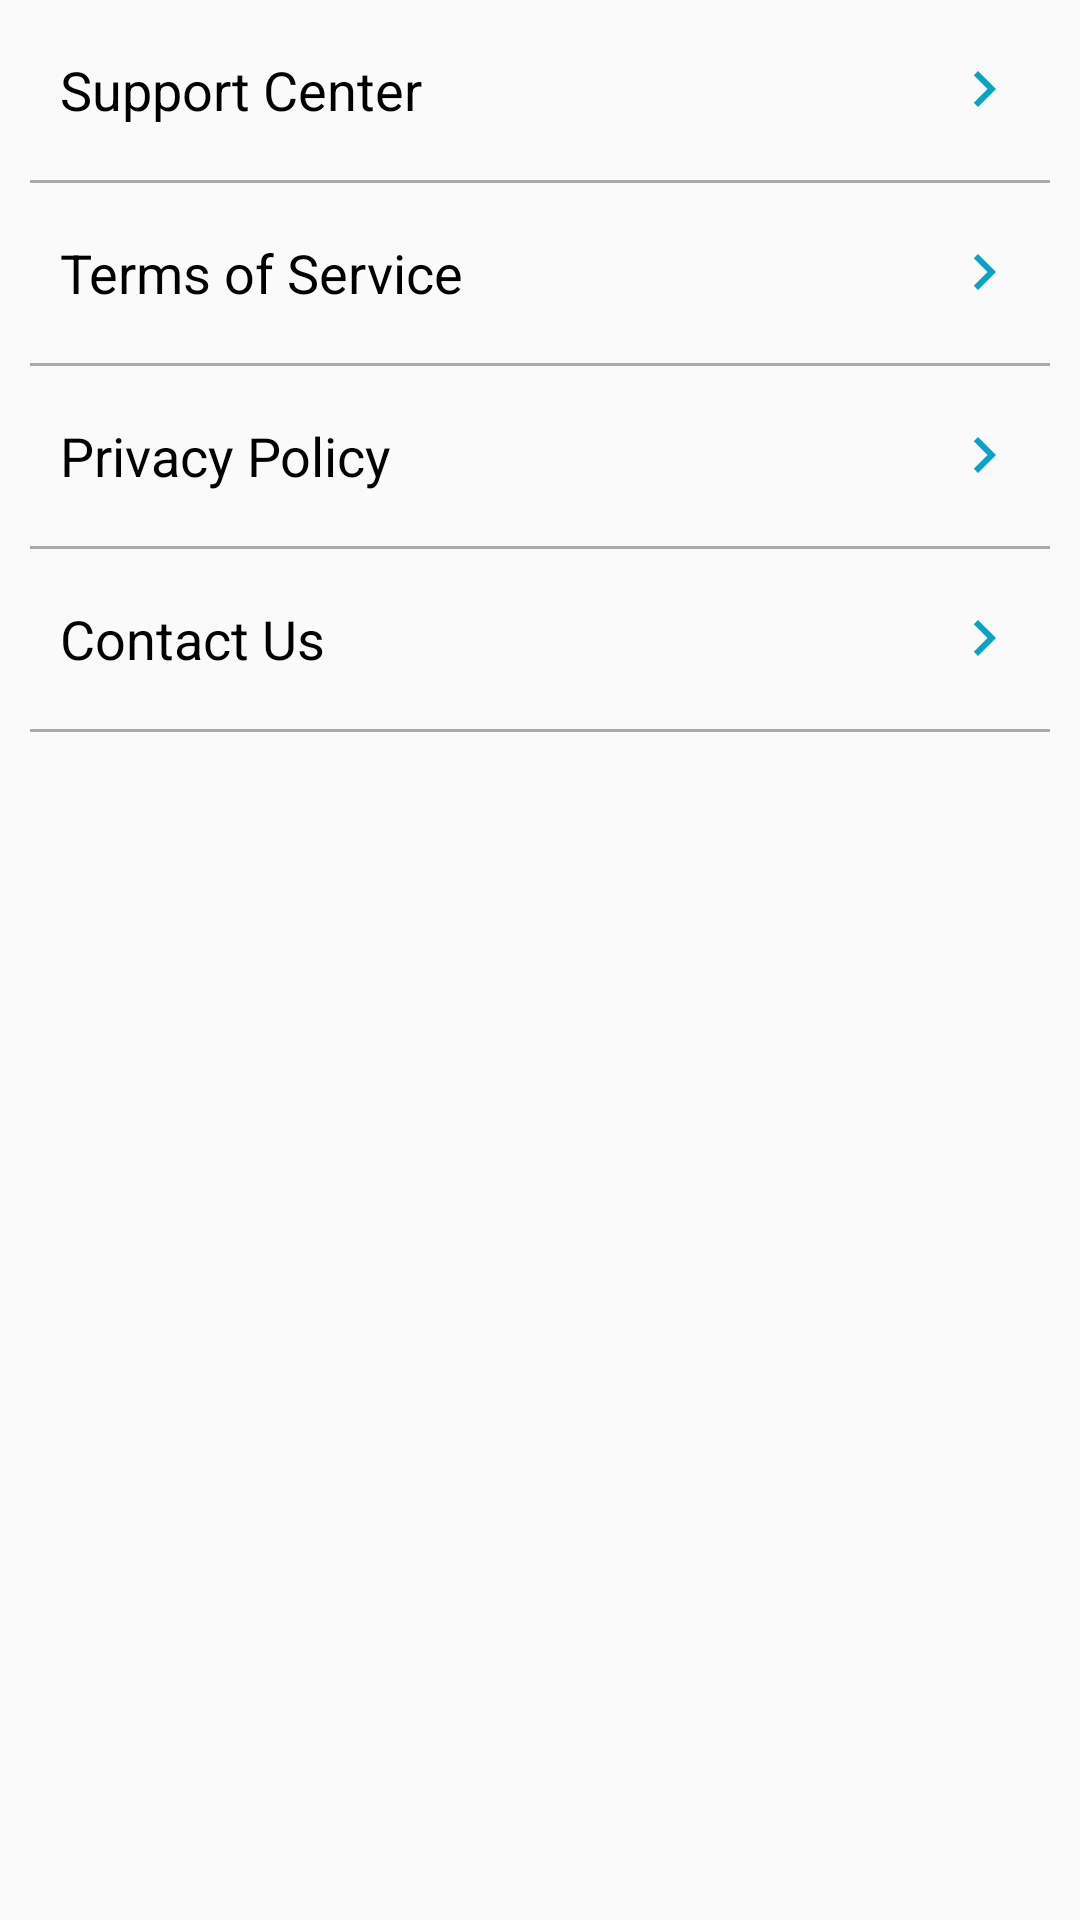

Icon bounding boxes for this 1080w x 1920h phone screenshot, format box=[x1, y1, x2, y2]:
right: box=[974, 71, 996, 107], box=[974, 254, 996, 290], box=[974, 437, 996, 473], box=[974, 620, 996, 656]
